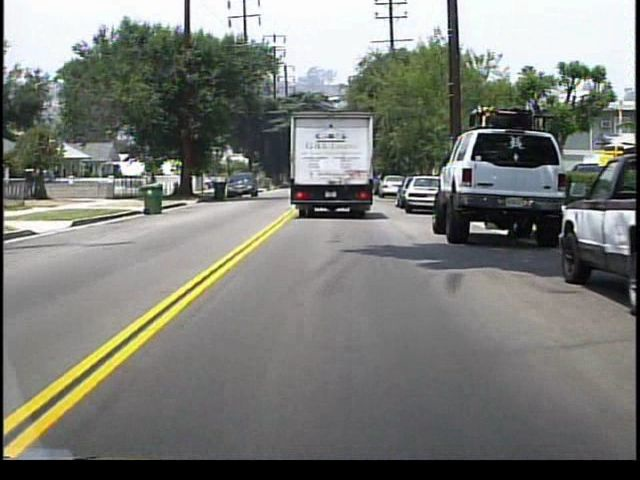person: (148, 169, 159, 197)
